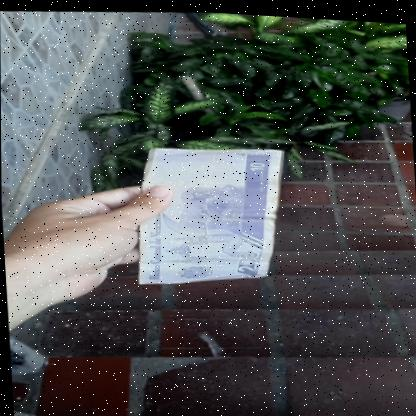ten-back-vef: (132, 139, 291, 291)
